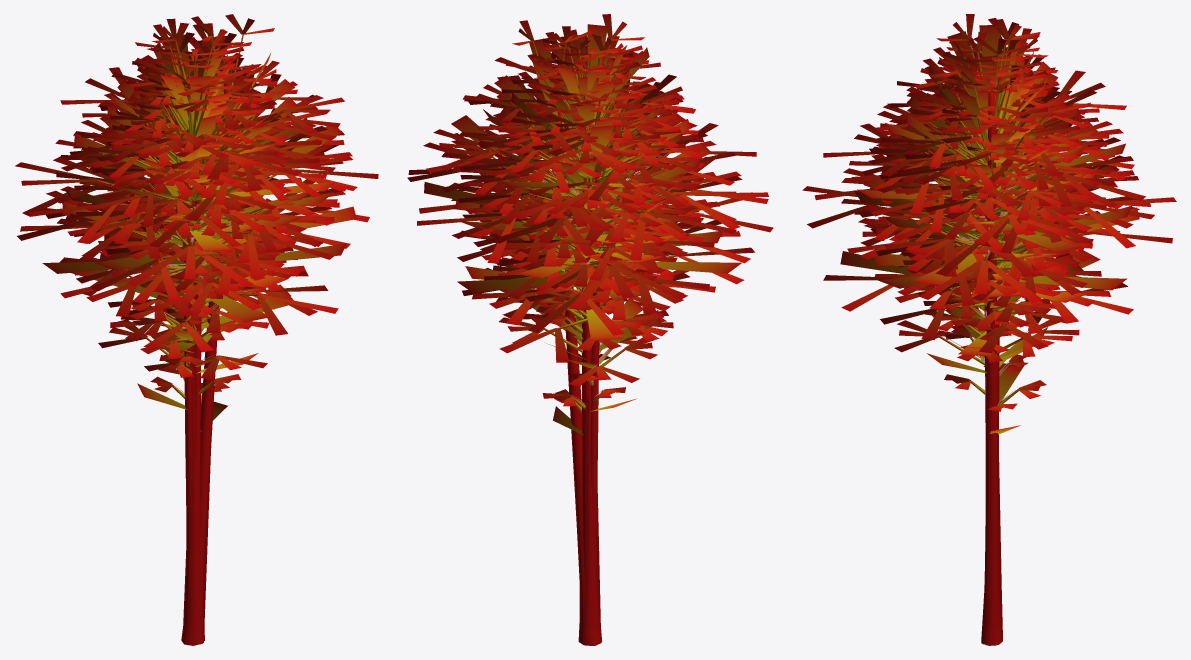
The model's file is aspen.glb.
The picture shows the model from 3 angles, left to right: view 1: azimuth 30°, elevation 25°; view 2: azimuth 150°, elevation 25°; view 3: azimuth 270°, elevation 25°; orthographic projection.
Visible parts, largest first — view 1: v3, v6, v5, v0, v7, v1, v2, v9, v4, v8, v3_far, v6_far (+8 smaller); view 2: v6, v3, v5, v0, v7, v2, v1, v4, v9, v8, v3_far, v6_far (+8 smaller); view 3: v5, v6, v3, v0, v7, v1, v4, v5_far, v6_far, v8, v2, v3_far (+8 smaller).
Part boxes in pixels (bbox=[...]): v3: bbox=[20, 61, 378, 573]; v6: bbox=[15, 71, 369, 645]; v5: bbox=[89, 14, 345, 645]; v0: bbox=[53, 22, 336, 642]; v7: bbox=[57, 23, 327, 627]; v1: bbox=[91, 37, 301, 628]; v2: bbox=[98, 18, 264, 645]; v9: bbox=[98, 55, 271, 642]; v4: bbox=[98, 37, 287, 530]; v8: bbox=[100, 32, 276, 209]; v3_far: bbox=[42, 60, 346, 352]; v6_far: bbox=[65, 79, 356, 288]; v6: bbox=[417, 71, 768, 629]; v3: bbox=[407, 71, 773, 562]; v5: bbox=[426, 20, 704, 645]; v0: bbox=[452, 14, 707, 645]; v7: bbox=[441, 26, 716, 626]; v2: bbox=[502, 47, 689, 630]; v1: bbox=[469, 36, 705, 634]; v4: bbox=[481, 50, 668, 412]; v9: bbox=[489, 57, 656, 643]; v8: bbox=[497, 34, 686, 642]; v3_far: bbox=[465, 95, 741, 343]; v6_far: bbox=[424, 75, 722, 300]; v5: bbox=[851, 36, 1108, 628]; v6: bbox=[814, 72, 1176, 645]; v3: bbox=[802, 54, 1172, 362]; v0: bbox=[854, 14, 1133, 645]; v7: bbox=[870, 18, 1130, 300]; v1: bbox=[876, 37, 1101, 643]; v4: bbox=[894, 34, 1081, 411]; v5_far: bbox=[882, 56, 1131, 629]; v6_far: bbox=[857, 89, 1127, 297]; v8: bbox=[912, 31, 1087, 642]; v2: bbox=[901, 19, 1064, 637]; v3_far: bbox=[840, 61, 1139, 356].
Size of the model in its own units: 6.34 by 11.48 by 6.39.
